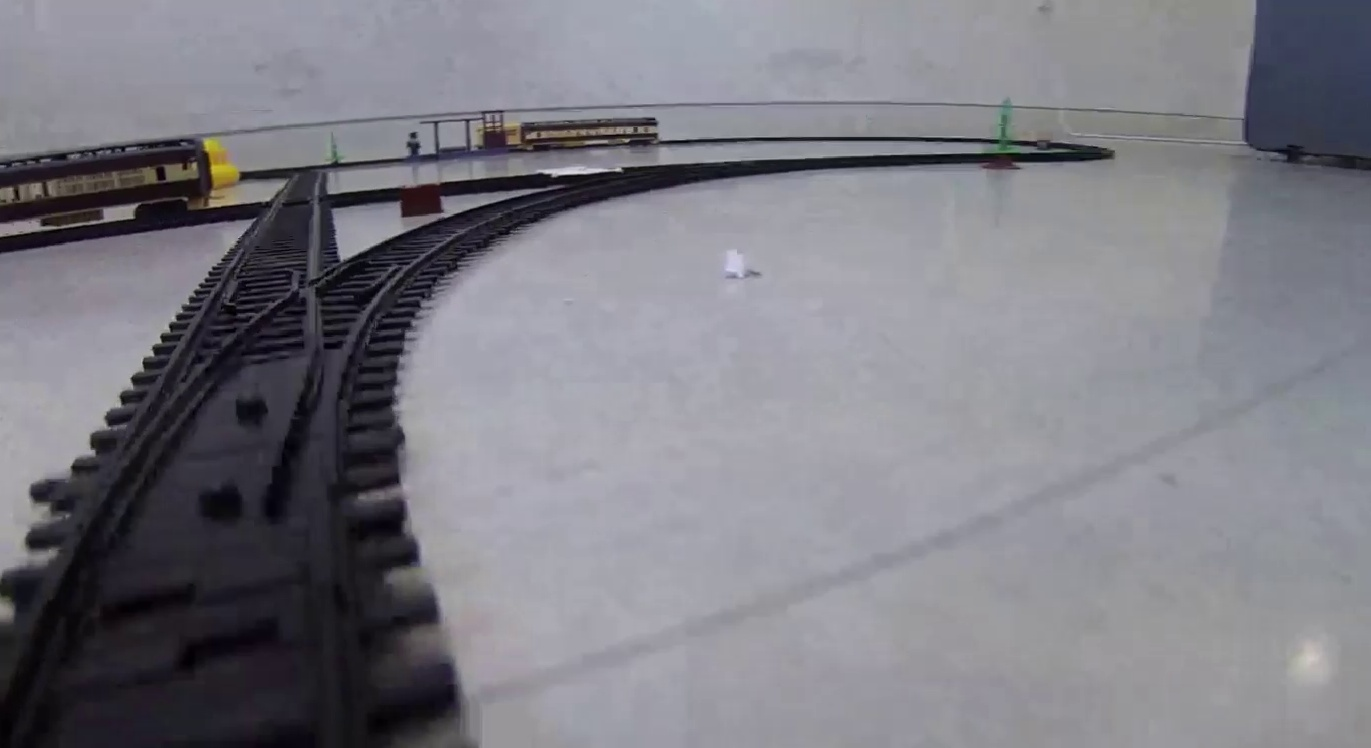box: (401, 187, 444, 213)
tree: (985, 96, 1022, 168)
